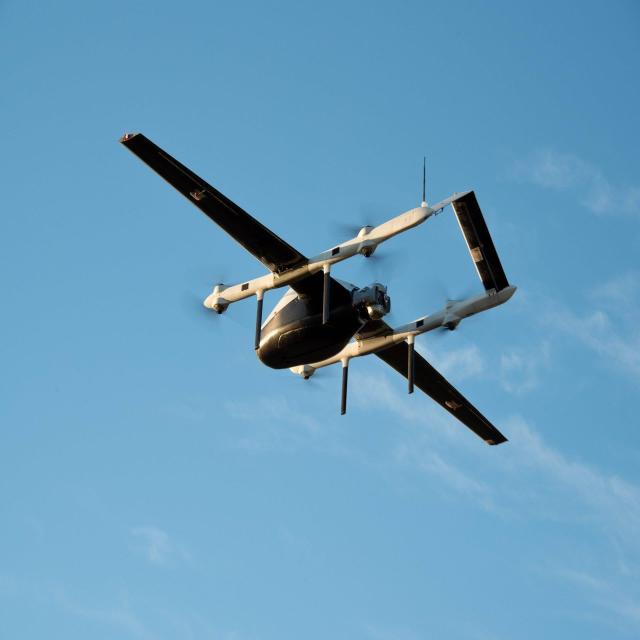iha: (117, 128, 520, 451)
